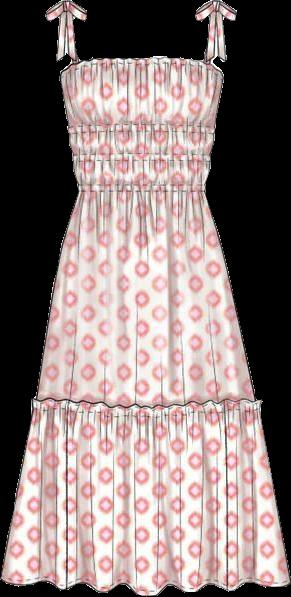Bodice: (59, 56, 223, 197)
Hemline: (0, 572, 290, 596)
Neckline: (56, 55, 227, 78), (67, 124, 214, 135), (71, 153, 211, 162)
Skirt: (1, 193, 289, 595)
Waistline: (28, 401, 263, 416), (77, 188, 206, 199)
